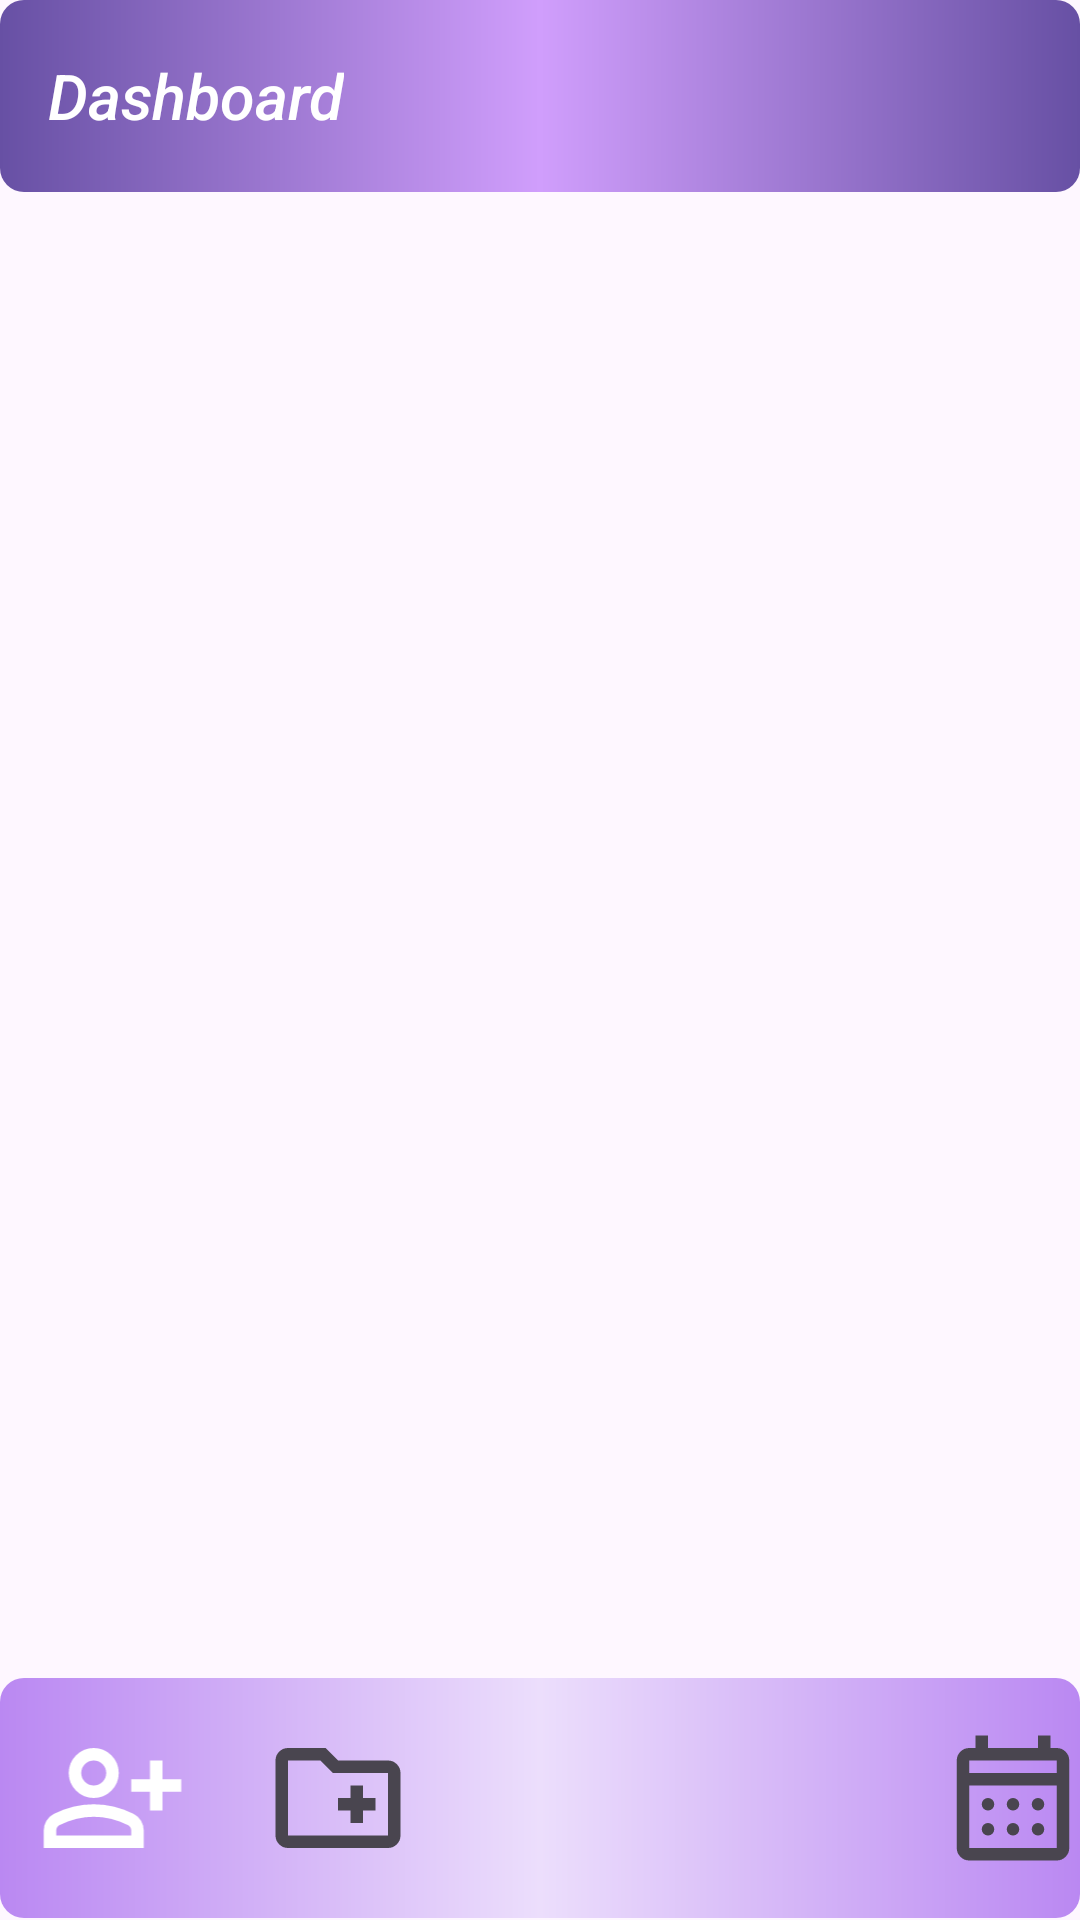

Named icons in this screenshot (1080×1920) and their centers, (x=x, y=y):
add: (x=91, y=1798)
addcourse: (x=337, y=1798)
